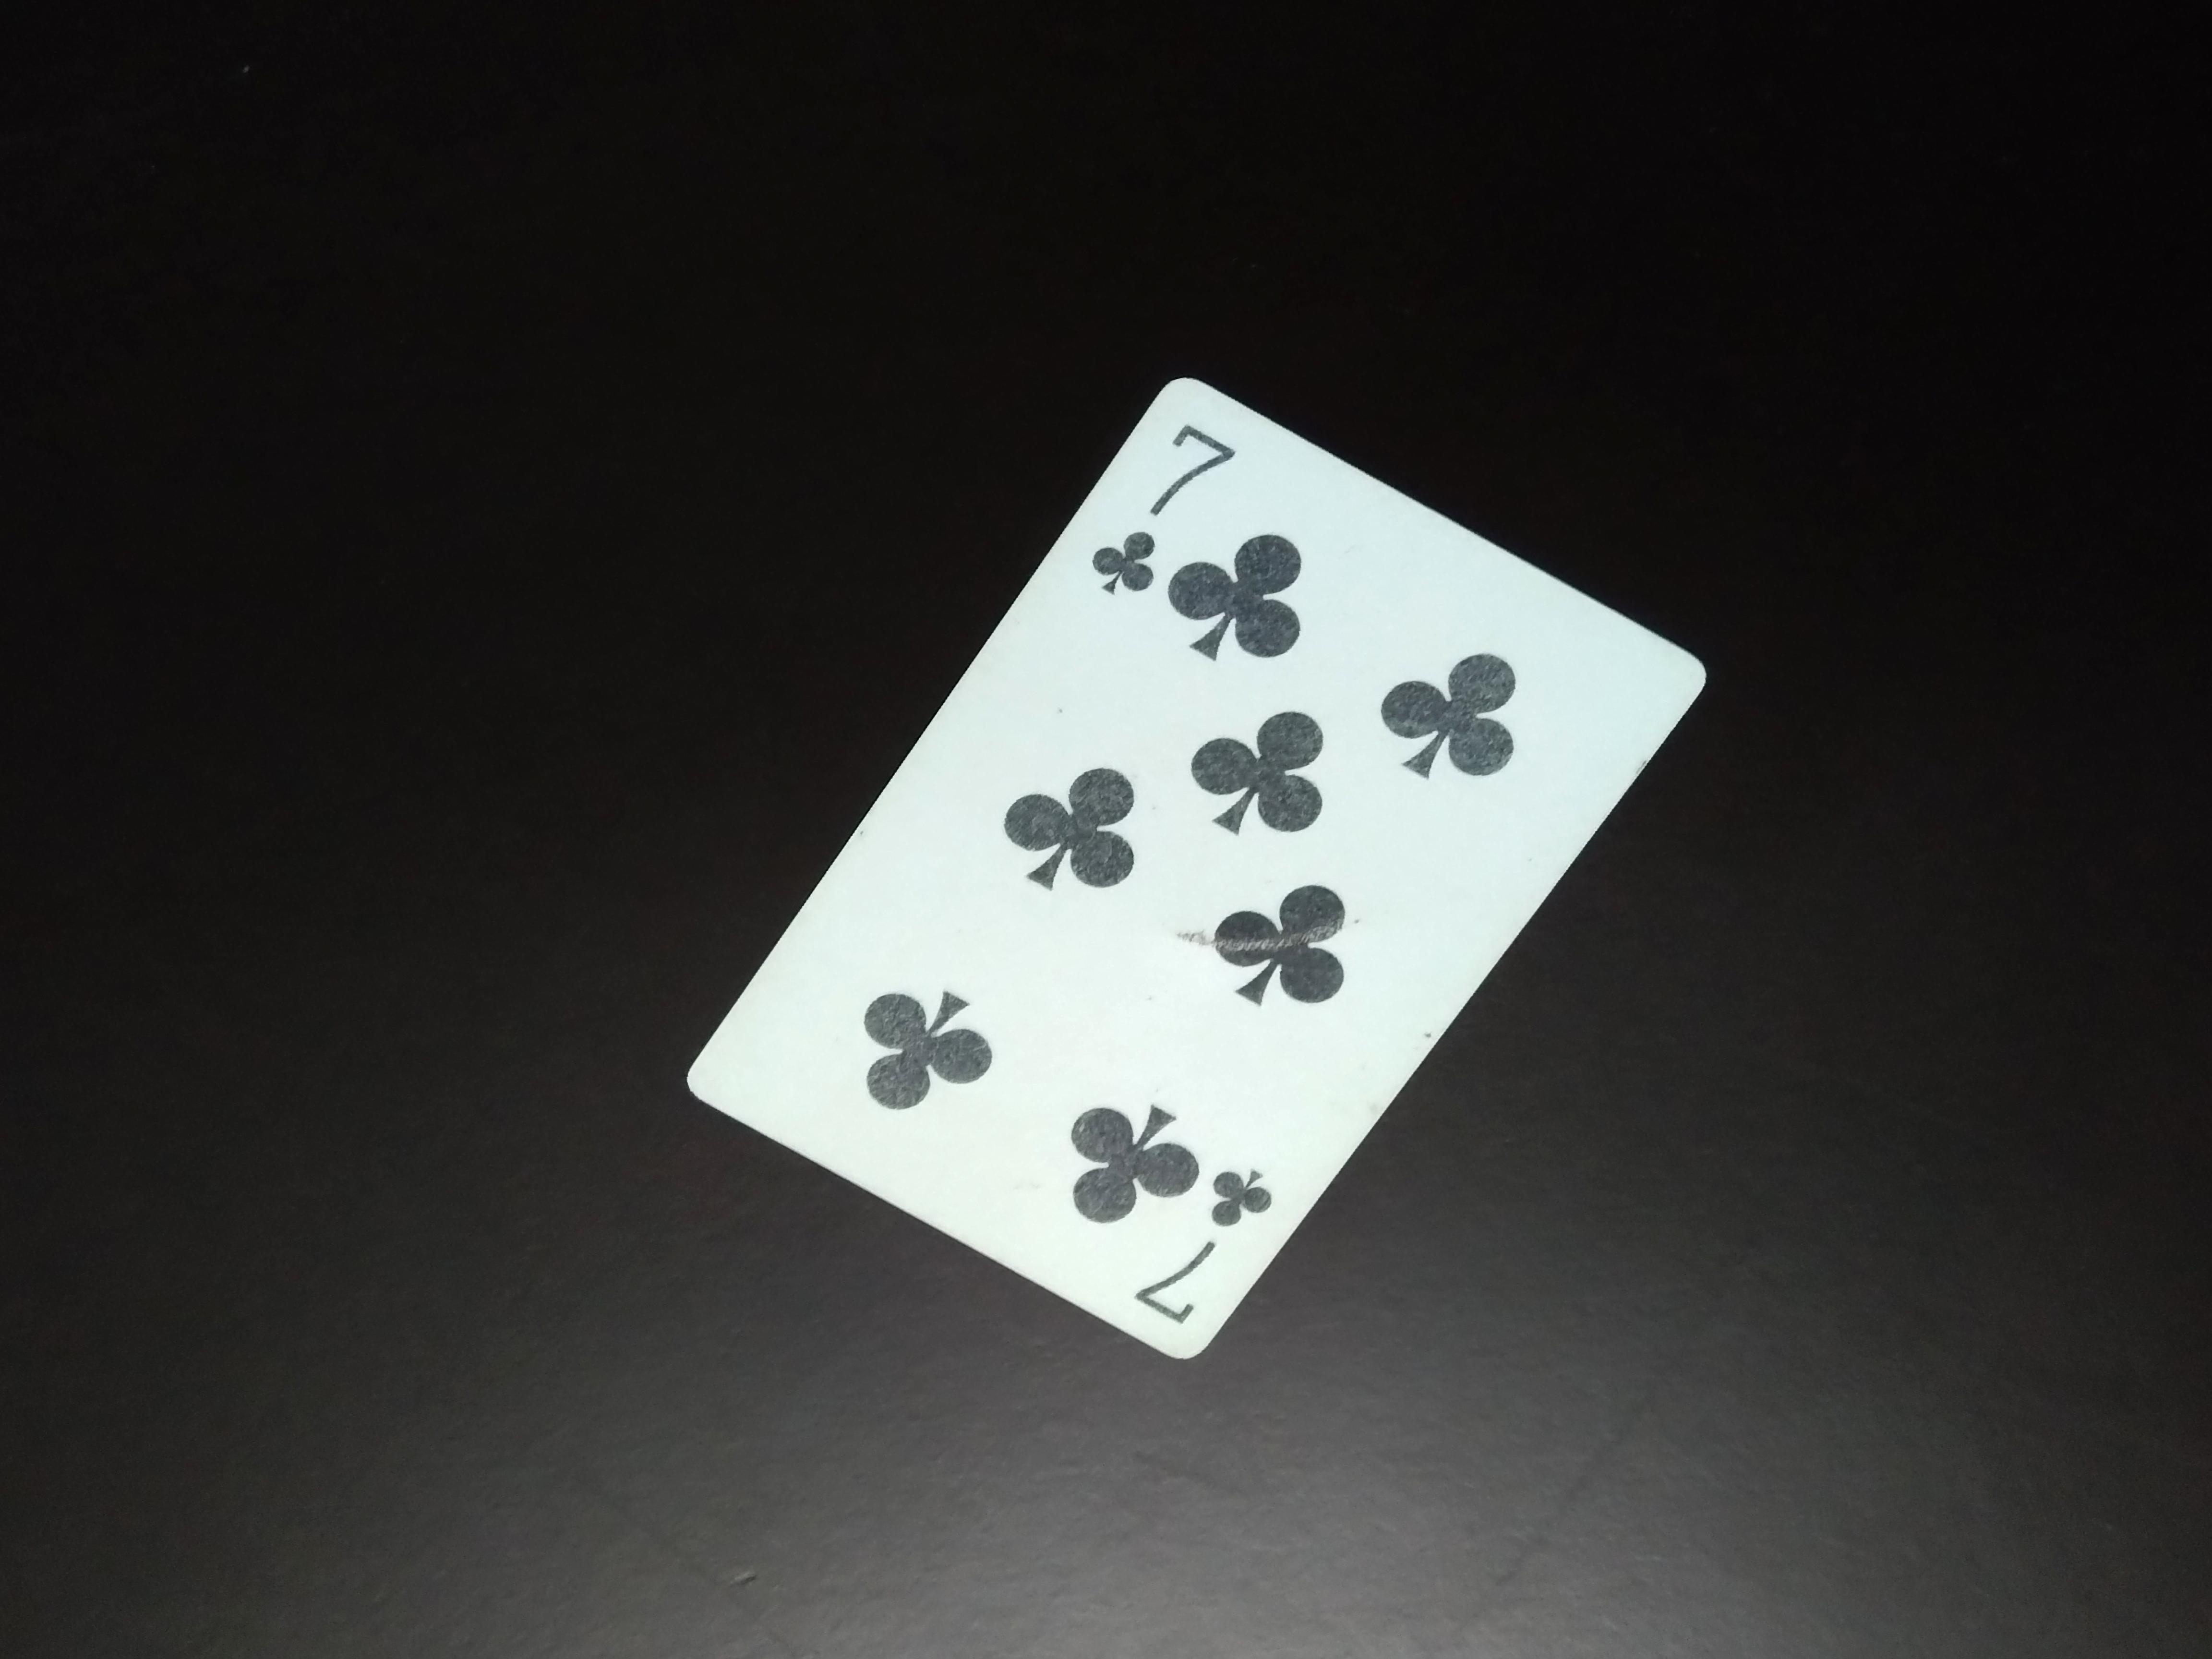7C: (1134, 1168, 1287, 1328)
